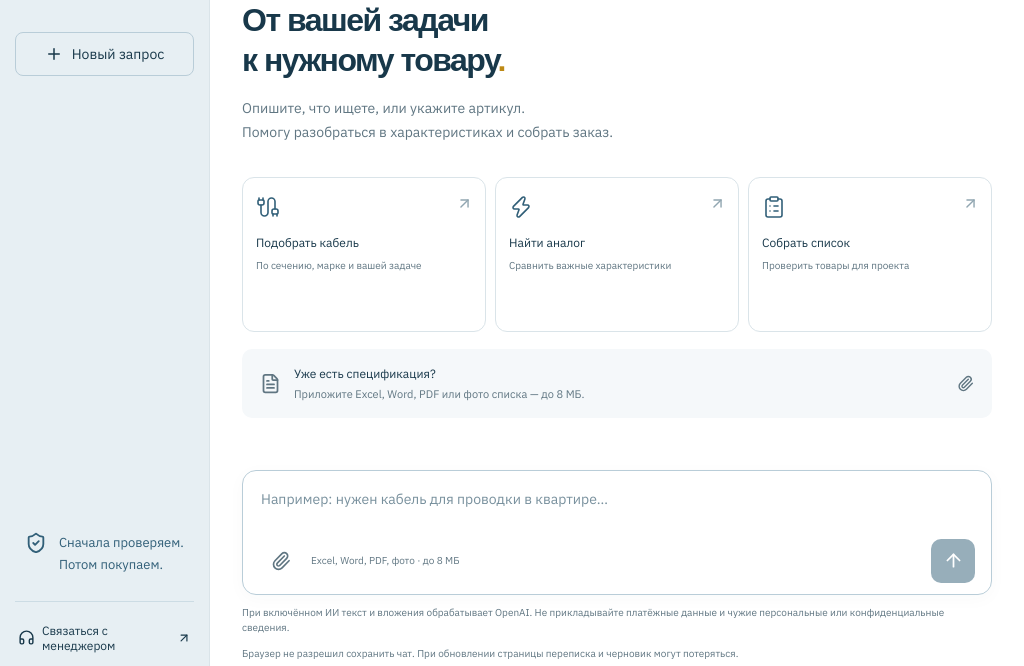
Test case: ignores corrupt saved state and continues when storage is unavailable
(page scrolled)
Expected: the text "Браузер не разрешил сохранить чат" is shown, [242, 647, 738, 660]
Step 1. Type "Найди кабель" into the text box named "Ваш запрос консультанту" → x=617, y=510, box [259, 486, 975, 535]
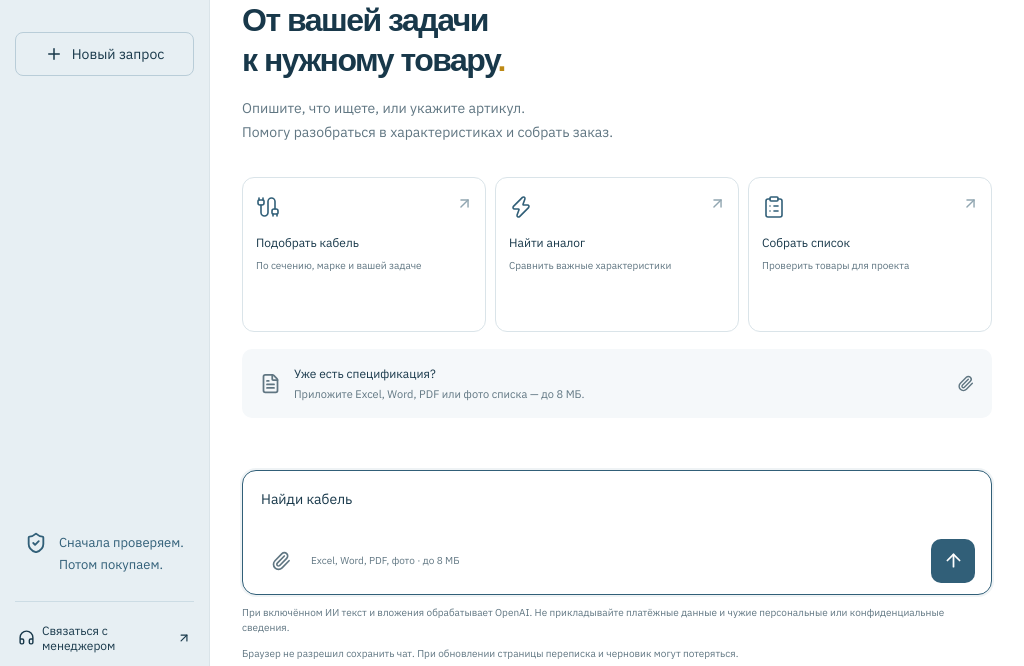
Step 2. Click the button named "Отправить сообщение" → x=953, y=561, box [931, 539, 975, 583]
(page scrolled)
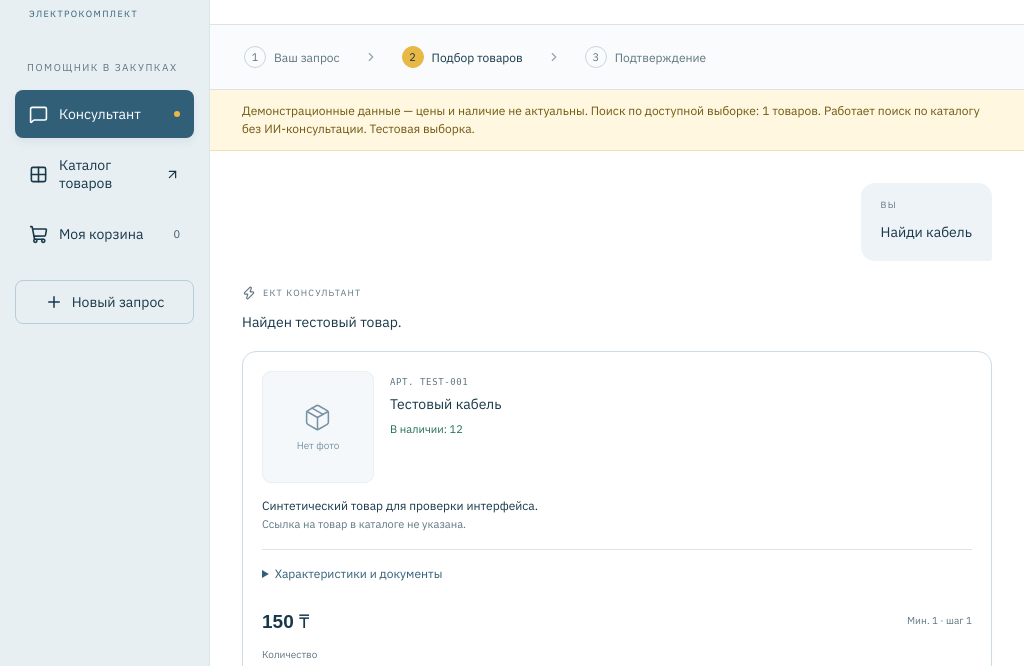
Expected: the text "Найден тестовый товар." is shown, [242, 312, 402, 330]
